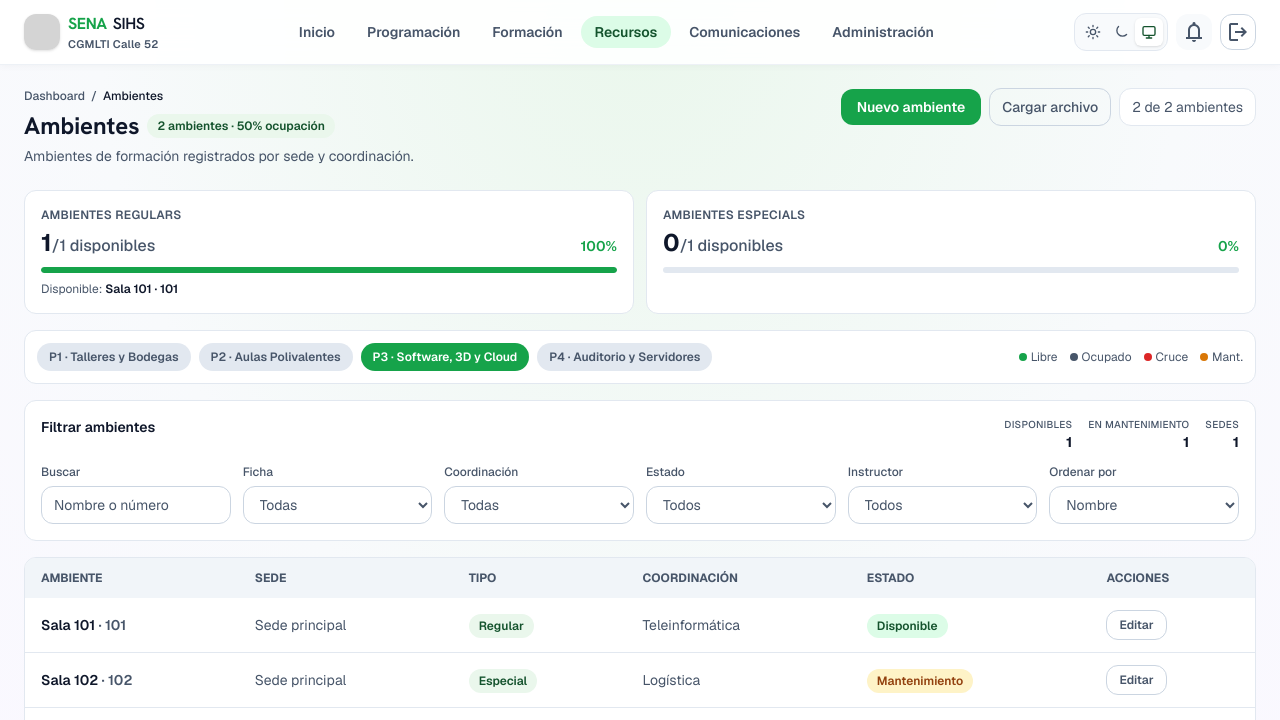
Test: Ambientes › clic en una fila abre el drawer con número, tipo y estado
Expected: the text "Sala 101" is shown, x1=41 y1=616 x2=95 y2=634
Click the text "Sala 101" at (68, 625), box x1=25 y1=598 x2=239 y2=652
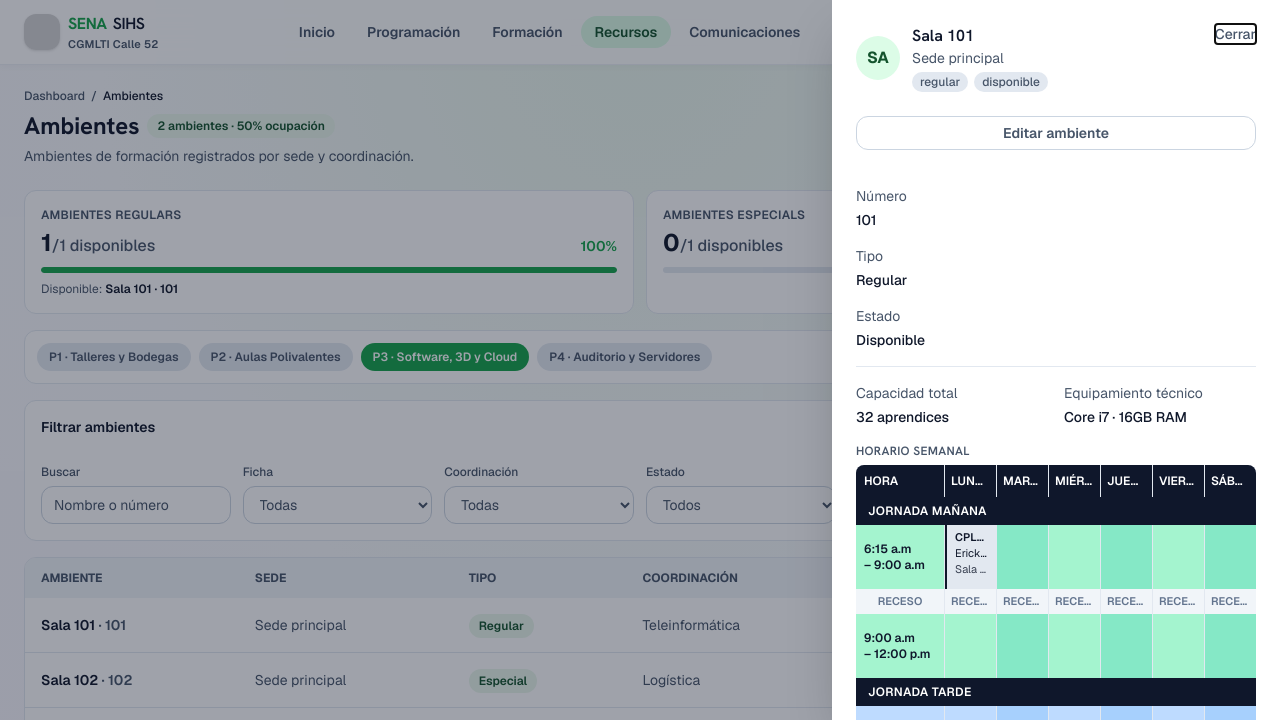
Result: the text "101" is shown at x1=856 y1=211 x2=876 y2=229
Result: the 1st text "regular" is shown at x1=912 y1=72 x2=968 y2=92
Result: the 1st text "disponible" is shown at x1=974 y1=72 x2=1048 y2=92
